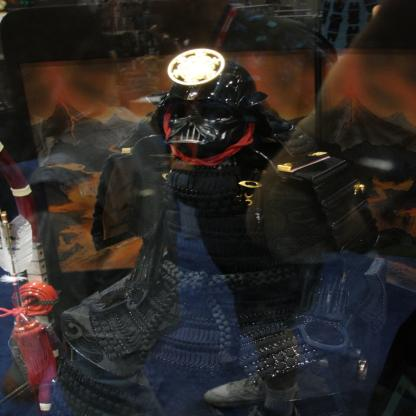Helmet: (143, 48, 264, 158)
